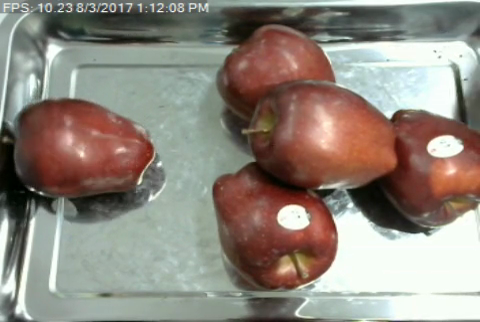Apple: (244, 78, 403, 195), (208, 159, 342, 293), (10, 94, 159, 204), (214, 20, 340, 123), (378, 106, 480, 230)
